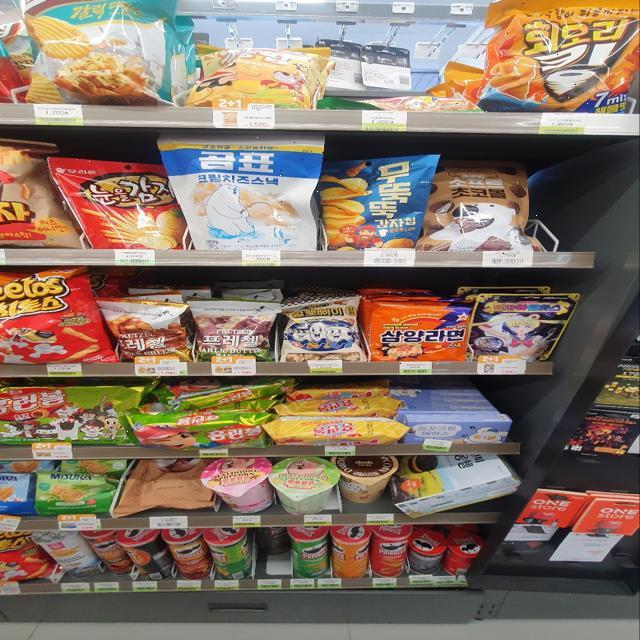product: (170, 137, 328, 251), (483, 3, 629, 114), (48, 158, 180, 250), (312, 161, 426, 254), (423, 170, 541, 254), (4, 274, 96, 362), (362, 302, 480, 364), (95, 301, 199, 362), (120, 412, 272, 450), (195, 299, 276, 359), (278, 305, 364, 358)
